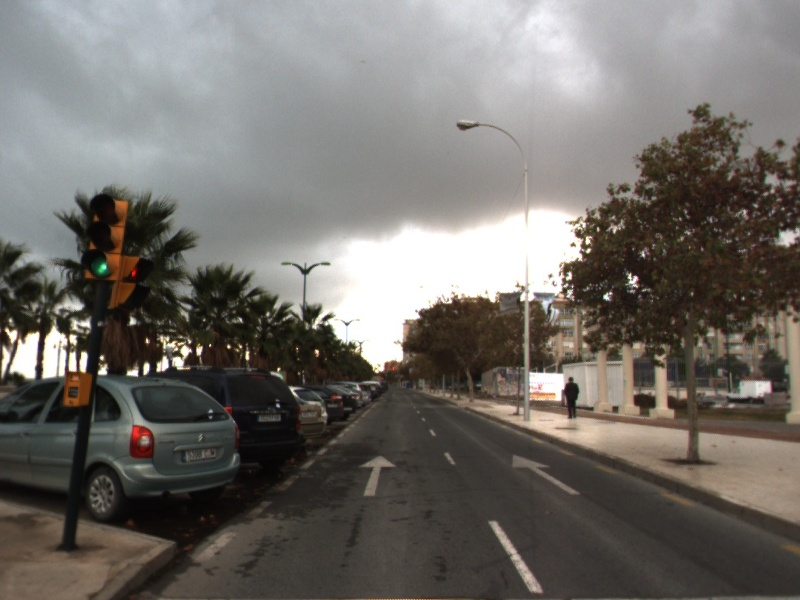STRAIGHT: (511, 453, 582, 497), (357, 454, 398, 498)
